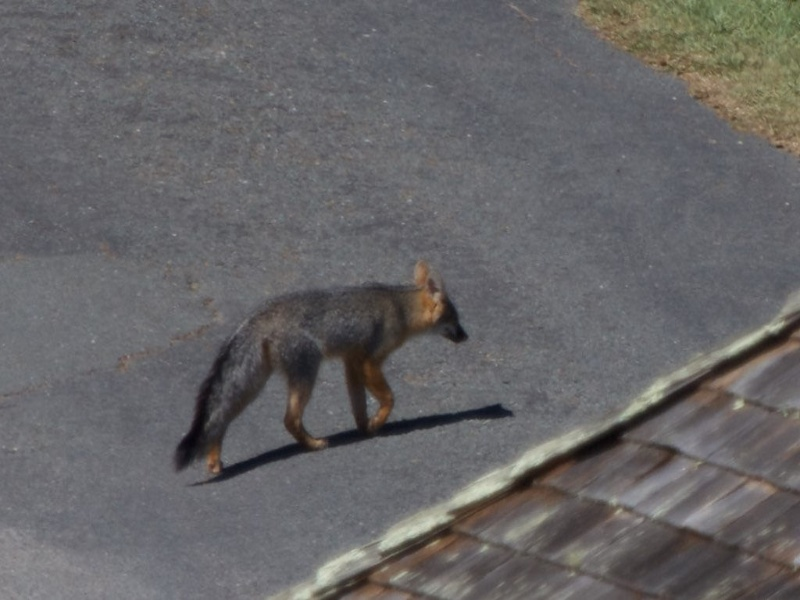fox: (168, 258, 471, 486)
